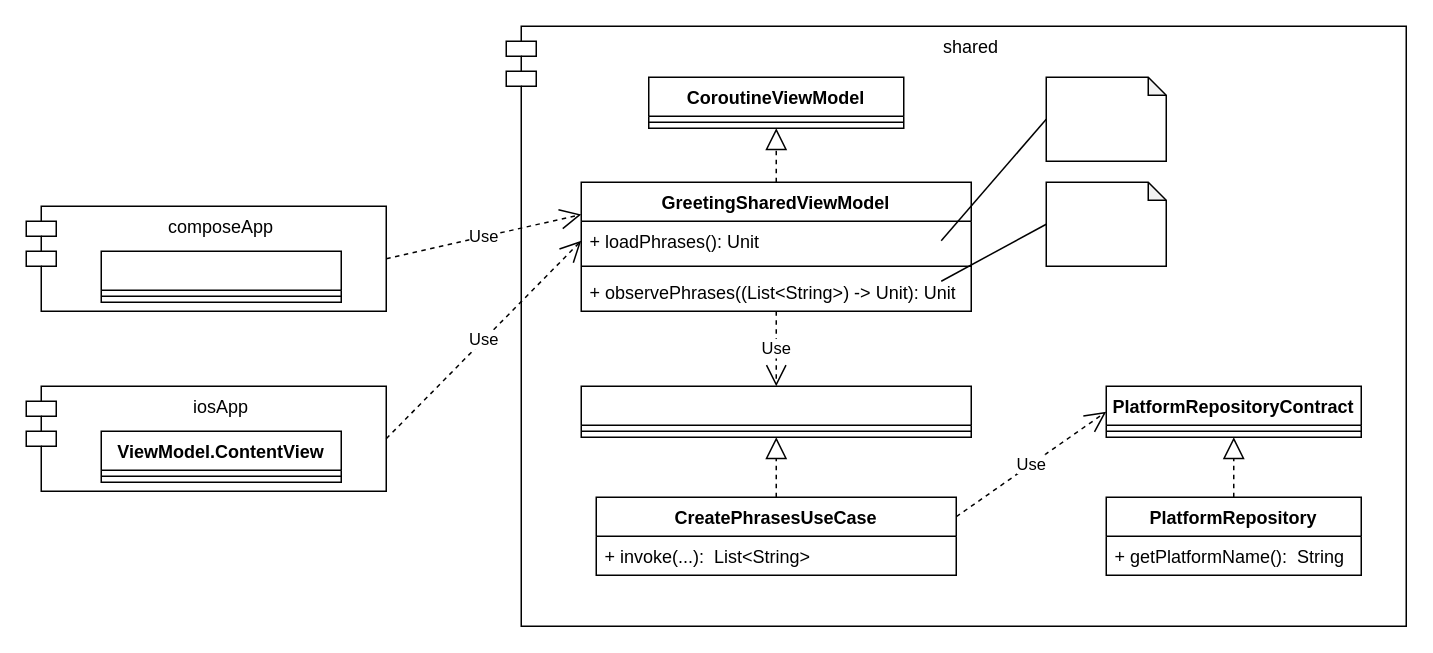
Some shapes in this 1433 by 653 pixel diagram are drawn without their labels. Here are the shapes that lost their labels. From the top down, the centre of each, then its label:
At [1105,118]: "Android 用".
At [1105,223]: "iOS 用".
At [220,276]: "GreetingScreen".
At [775,411]: "CreatePhrasesUseCaseContract".
